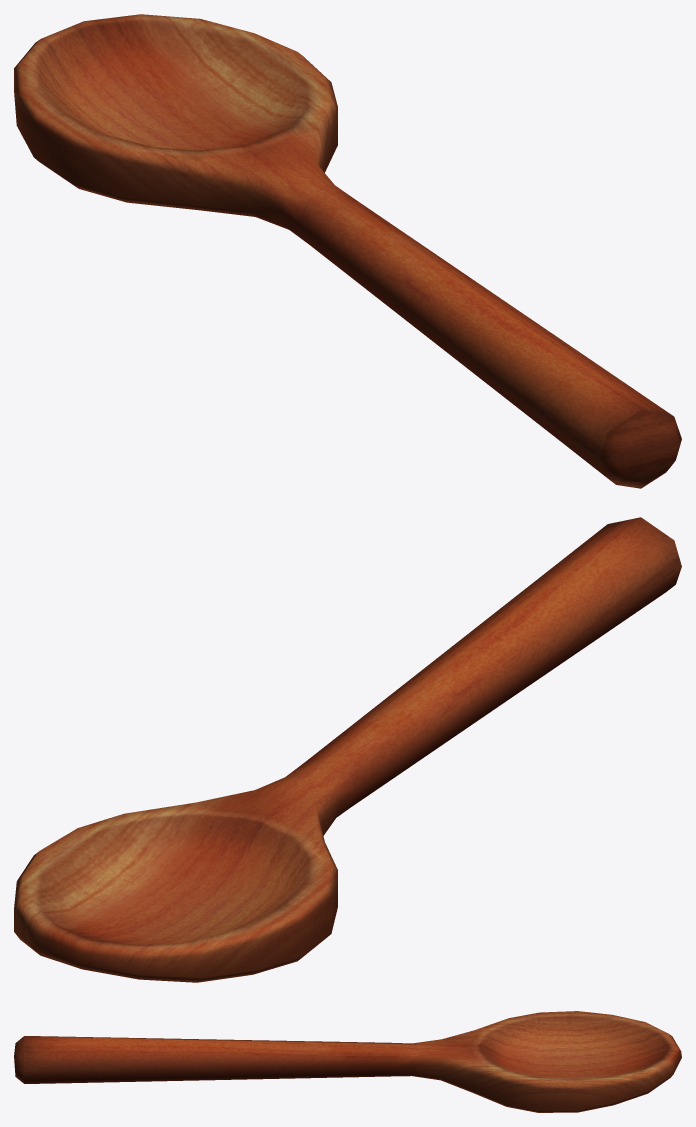
The model's file is Spoon_Wooden_01.fbx.
3 views of the same model, one above another, from view 1: azimuth 30°, elevation 25°; view 2: azimuth 150°, elevation 25°; view 3: azimuth 270°, elevation 25° (orthographic). The views are drawn at different scales.
Parts seen in each view (by area): view 1: Spoon_Wooden_01; view 2: Spoon_Wooden_01; view 3: Spoon_Wooden_01.
Boxes of the visible parts, box(x1,y1,x2,y2) form: Spoon_Wooden_01: box(14, 14, 681, 488); Spoon_Wooden_01: box(14, 517, 681, 982); Spoon_Wooden_01: box(14, 1011, 681, 1112).
Size of the model in its own units: 29.64 by 8.3 by 109.
